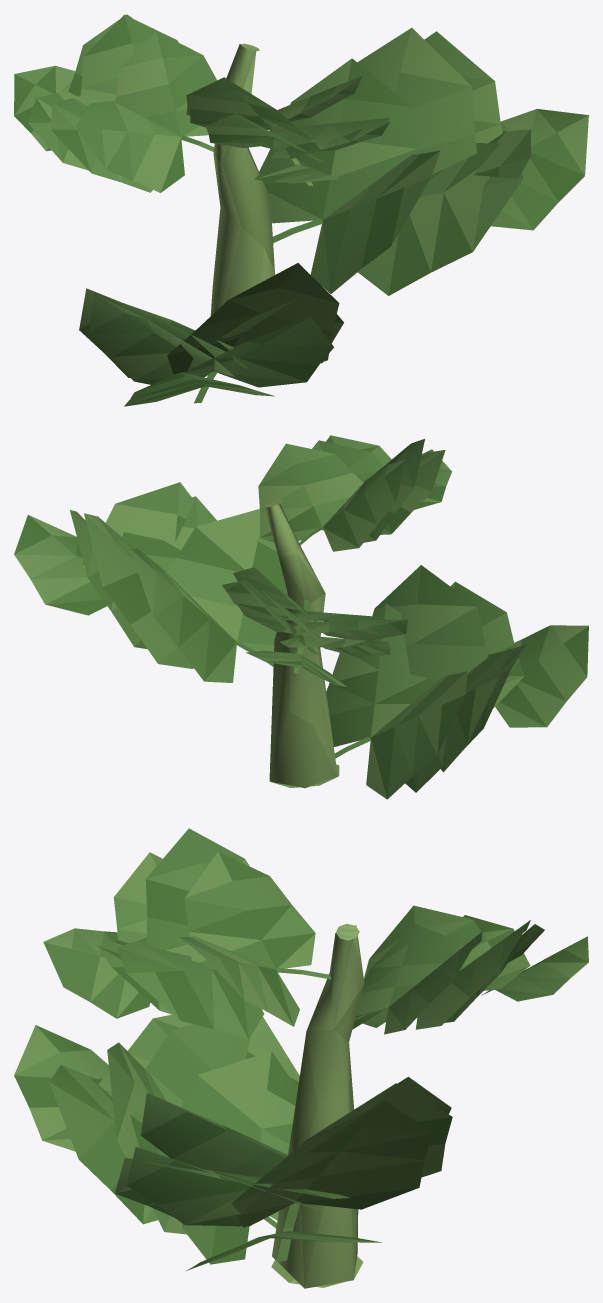
The model's file is tomate_semis.glb.
3 renders of one model, top to bottom at view 1: azimuth 30°, elevation 25°; view 2: azimuth 150°, elevation 25°; view 3: azimuth 270°, elevation 25°, orthographic. The views are drawn at different scales.
Parts seen in each view (by area): view 1: Tomate_Feuilles, Tomate_Tige; view 2: Tomate_Feuilles, Tomate_Tige; view 3: Tomate_Feuilles, Tomate_Tige.
Part boxes in pixels (left/top/right/bottom): Tomate_Feuilles: left=14, top=14, right=588, bottom=406; Tomate_Tige: left=210, top=43, right=275, bottom=315; Tomate_Feuilles: left=14, top=435, right=588, bottom=799; Tomate_Tige: left=264, top=500, right=339, bottom=788; Tomate_Feuilles: left=14, top=828, right=588, bottom=1270; Tomate_Tige: left=271, top=924, right=364, bottom=1288.
Bounding box in the file's own units: 0.2068 × 0.1273 × 0.1667.
